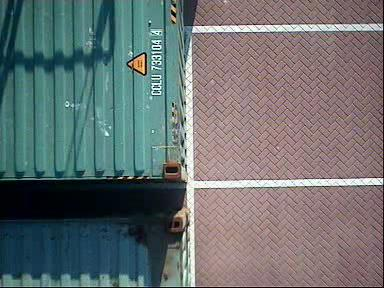groundmarker_2: (307, 37, 374, 72), (302, 4, 369, 38), (306, 175, 373, 209)
